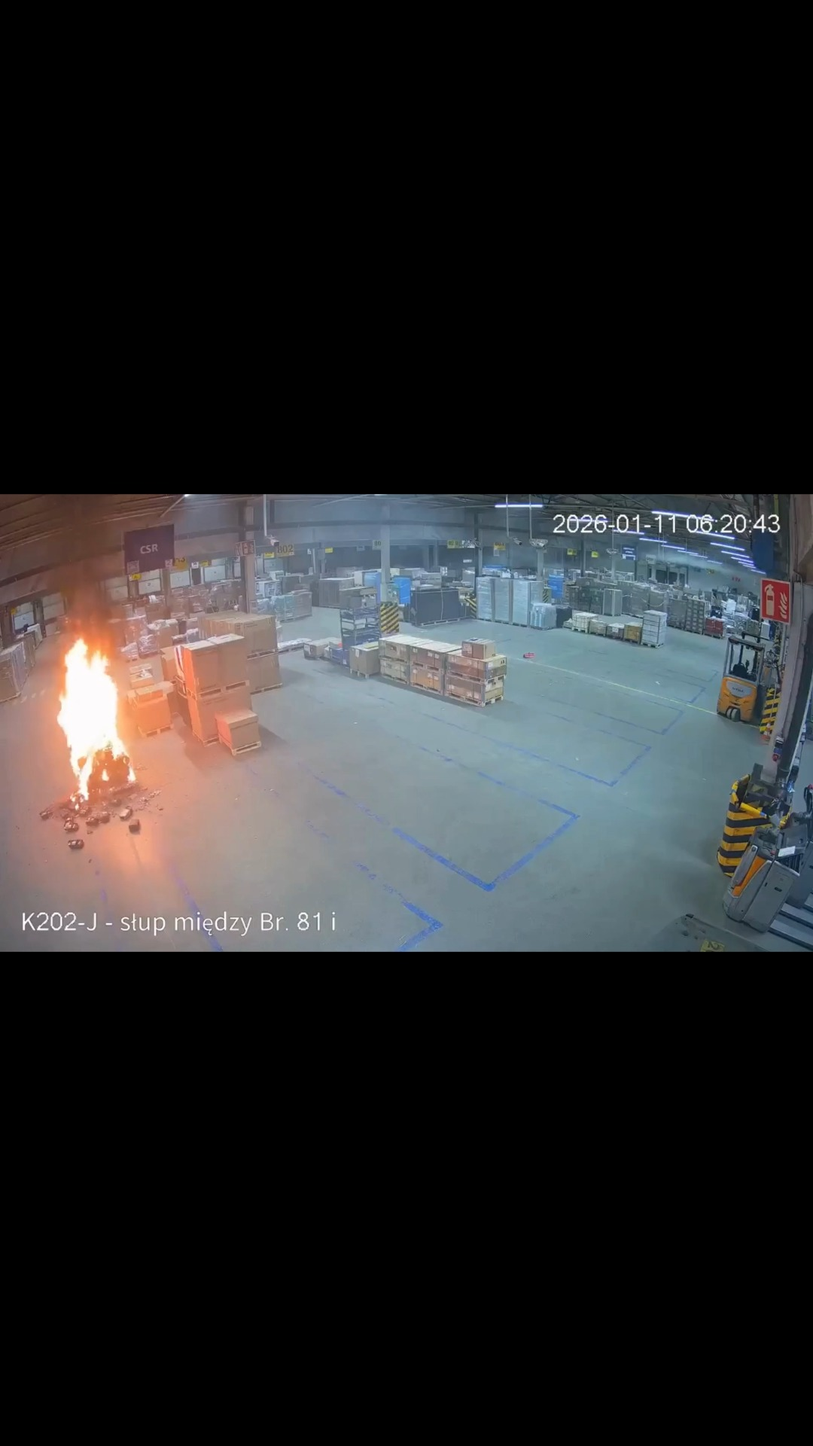fire: (56, 635, 139, 812)
smoke: (33, 498, 137, 639)
